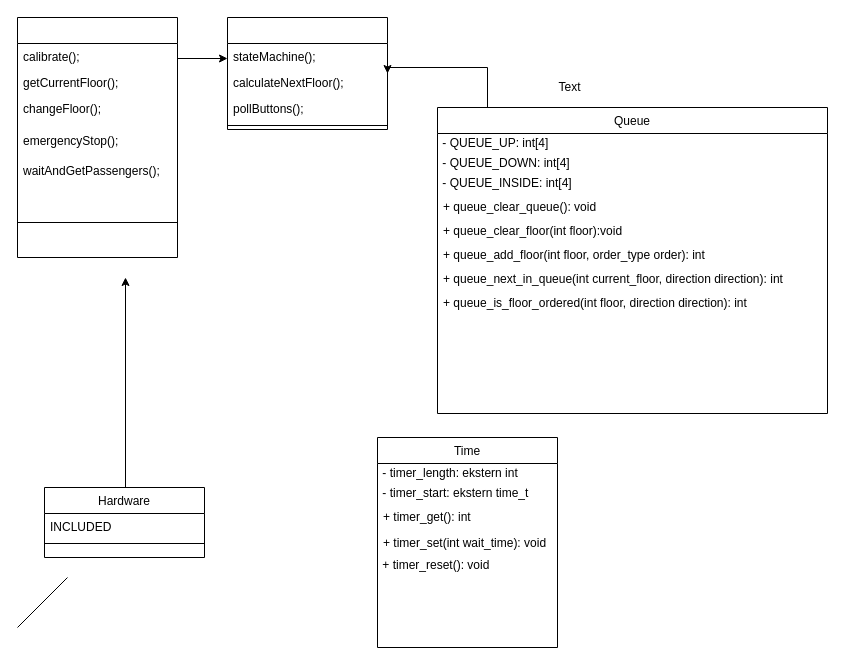
Some shapes in this 845 by 665 pixel diagram are drawn without their labels. Each missing label, with the box of its shape:
Control: (226, 16, 388, 130)
Elevator: (16, 16, 178, 258)
